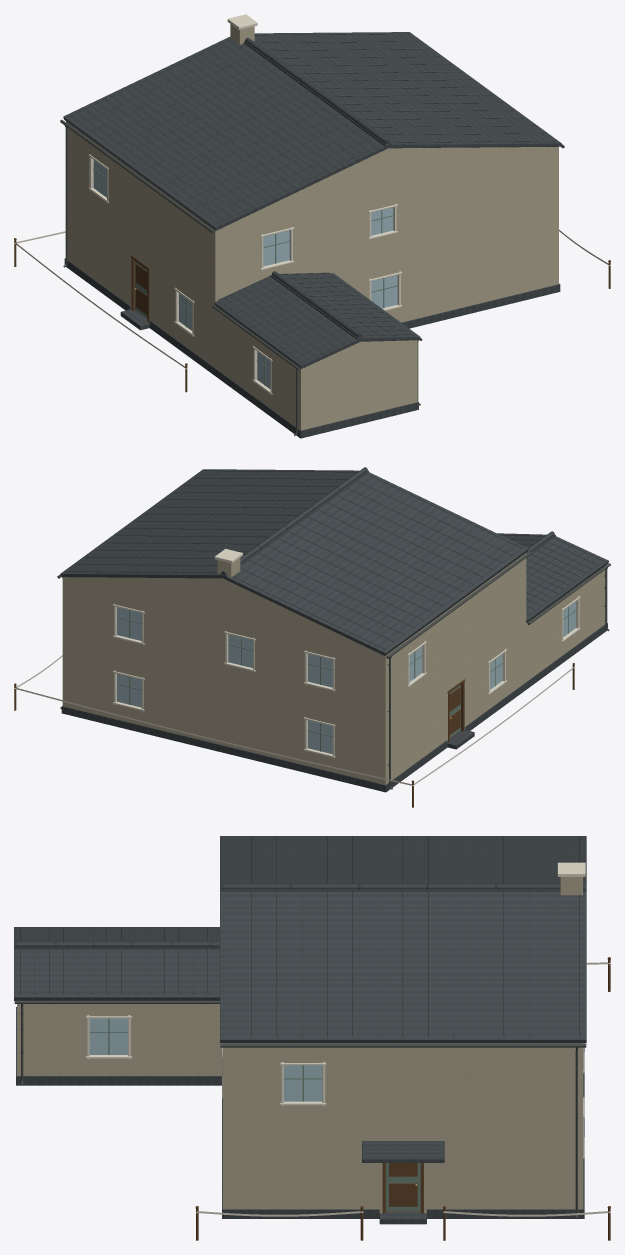
The model's file is House1931.fbx.
3 renders of one model, top to bottom at view 1: azimuth 30°, elevation 25°; view 2: azimuth 150°, elevation 25°; view 3: azimuth 270°, elevation 25°, orthographic. The views are drawn at different scales.
Parts seen in each view (by area): view 1: Main pitched roof, Main pitched roof.001, Utility north, Rear wing roof, North wall.052, Closed gable.001, North wall.050, North wall.054, Rear wing roof.001, North wall.056, North wall.049, North wall.025 (+36 smaller); view 2: Main pitched roof, Main pitched roof.001, Closed gable, Rear wing roof, South wall.019, South wall.018, Stone plinth, South wall.020, South wall.002, South wall.027, South wall.010, South wall.001 (+52 smaller); view 3: Main pitched roof.001, Main pitched roof, Rear wing roof.001, East wall, East wall.001, East wall.002, Utility east.001, Rear wing roof, East wall.014, East wall.007, East wall.003, Utility east.006 (+31 smaller).
Part boxes in pixels (x1,y1,x2,y2): Main pitched roof: [63, 37, 391, 230]; Main pitched roof.001: [244, 32, 561, 148]; Utility north: [298, 340, 417, 430]; Rear wing roof: [214, 276, 363, 368]; North wall.052: [400, 197, 558, 272]; Closed gable.001: [233, 147, 543, 222]; North wall.050: [401, 234, 558, 305]; North wall.054: [400, 166, 558, 230]; Rear wing roof.001: [270, 273, 420, 341]; North wall.056: [400, 146, 558, 202]; North wall.049: [400, 267, 558, 322]; North wall.025: [293, 212, 369, 256]; Main pitched roof: [219, 472, 528, 655]; Main pitched roof.001: [60, 469, 368, 578]; Closed gable: [77, 577, 368, 648]; Rear wing roof: [526, 536, 608, 622]; South wall.019: [142, 644, 226, 698]; South wall.018: [143, 679, 226, 730]; Stone plinth: [61, 706, 386, 792]; South wall.020: [143, 613, 225, 663]; South wall.002: [333, 690, 388, 737]; South wall.027: [62, 624, 114, 671]; South wall.010: [254, 671, 305, 717]; South wall.001: [334, 726, 388, 769]; Main pitched roof.001: [220, 886, 586, 1043]; Main pitched roof: [220, 836, 586, 891]; Rear wing roof.001: [14, 943, 219, 1000]; East wall: [424, 1149, 579, 1213]; East wall.001: [422, 1104, 579, 1148]; East wall.002: [422, 1064, 579, 1103]; Utility east.001: [131, 1017, 221, 1057]; Rear wing roof: [14, 927, 219, 949]; East wall.014: [226, 1149, 282, 1209]; East wall.007: [323, 1149, 382, 1213]; East wall.003: [422, 1043, 579, 1063]; Utility east.006: [20, 1017, 86, 1057].
Bounding box in the file's own units: 2011 × 935 × 2028.
Materials: 19 (8 with a texture image).
